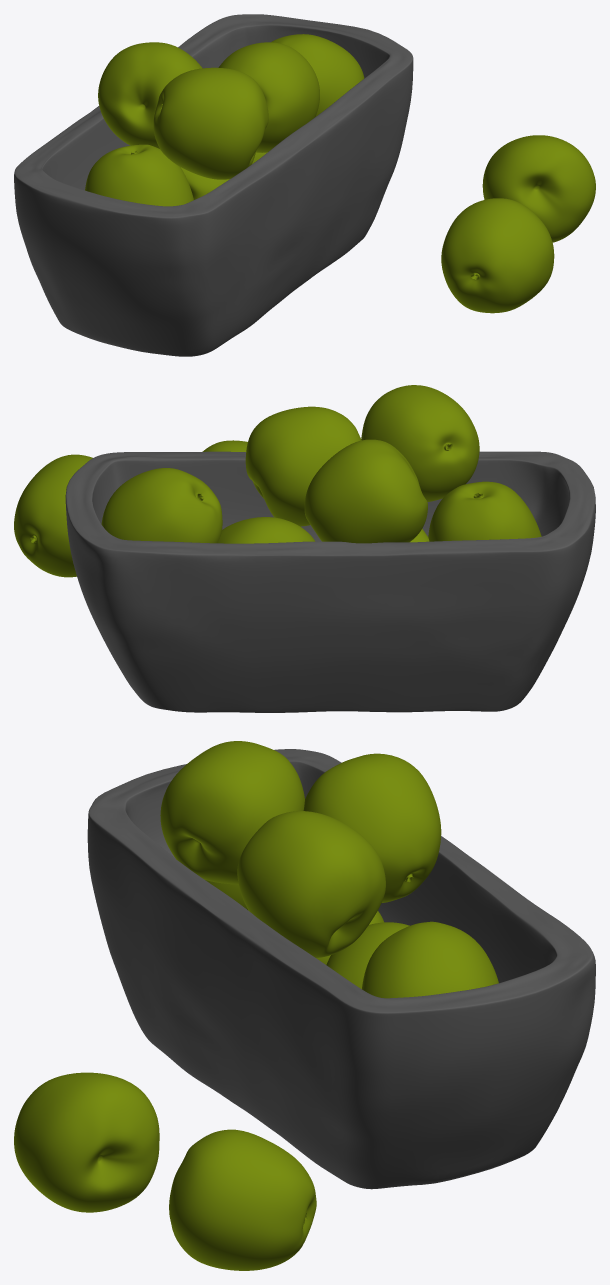
The model's file is apple.obj.
The picture shows the model from 3 angles, top to bottom: view 1: azimuth 30°, elevation 25°; view 2: azimuth 150°, elevation 25°; view 3: azimuth 270°, elevation 25°; orthographic projection. The views are drawn at different scales.
Visible parts, largest first — view 1: Box002, APLLE018, APLLE015, APLLE017, APLLE014, APLLE019, APLLE012, APLLE013, APLLE011; view 2: Box002, APLLE014, APLLE015, APLLE019, APLLE013, APLLE017, APLLE012, APLLE010; view 3: Box002, APLLE017, APLLE018, APLLE019, APLLE015, APLLE014, APLLE013, APLLE010.
Boxes of the visible parts, box(x1,y1,x2,y2) form: Box002: box(14, 14, 413, 356); APLLE018: box(441, 198, 554, 313); APLLE015: box(153, 67, 268, 179); APLLE017: box(482, 135, 595, 242); APLLE014: box(98, 42, 202, 148); APLLE019: box(218, 42, 319, 152); APLLE012: box(85, 144, 193, 206); APLLE013: box(271, 34, 364, 116); APLLE011: box(181, 167, 229, 199); Box002: box(65, 451, 595, 712); APLLE014: box(304, 439, 427, 543); APLLE015: box(361, 385, 479, 501); APLLE019: box(245, 406, 361, 526); APLLE013: box(101, 468, 222, 543); APLLE017: box(14, 454, 92, 577); APLLE012: box(428, 481, 541, 541); APLLE010: box(217, 517, 315, 543); Box002: box(87, 749, 595, 1189); APLLE017: box(169, 1129, 316, 1270); APLLE018: box(14, 1072, 159, 1212); APLLE019: box(237, 811, 385, 957); APLLE015: box(160, 741, 304, 884); APLLE014: box(303, 753, 441, 902); APLLE013: box(362, 921, 498, 998); APLLE010: box(326, 922, 409, 988).
Size of the model in its own units: 41.84 by 18.16 by 30.38.
